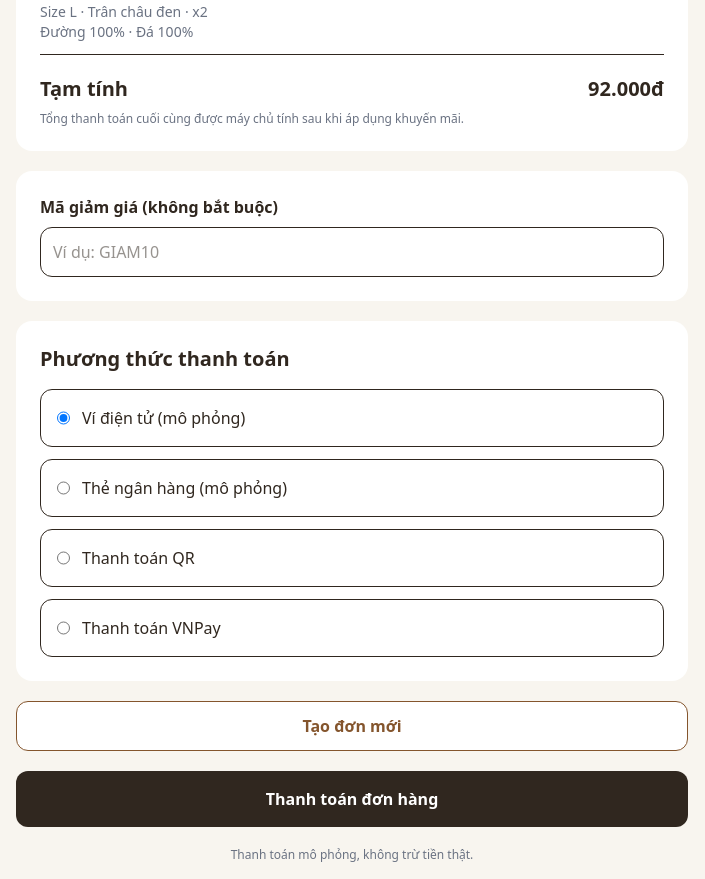
Test: Checkout - xu ly don hang cu › 409: don da thanh toan thi hien thanh cong
The width and height of the screenshot is (705, 879).
(page scrolled)
Click the button "Thanh toán đơn hàng".
click(352, 799)  # box x1=16 y1=771 x2=688 y2=827
(page scrolled)
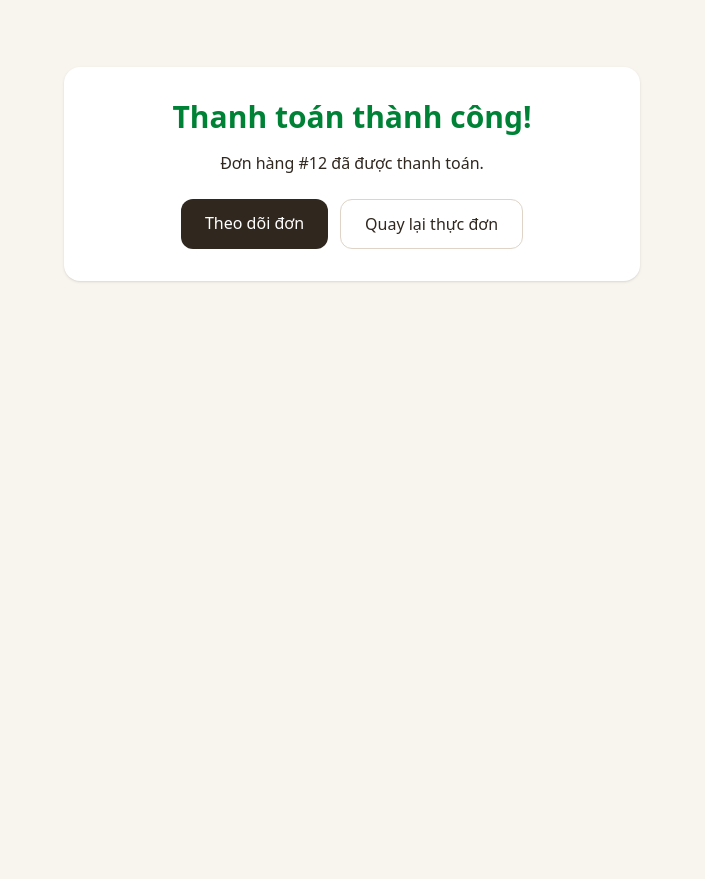
Expected: the heading "Thanh toán thành công!" is shown, x1=172 y1=96 x2=532 y2=137
Expected: the text "Đơn hàng #12 đã được thanh toán." is shown, x1=220 y1=152 x2=484 y2=174
